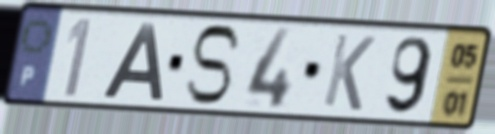1: (63, 15, 94, 99)
4: (242, 25, 297, 112)
9: (382, 34, 435, 118)
A: (98, 20, 165, 102)
K: (319, 30, 379, 114)
S: (182, 22, 244, 108)
